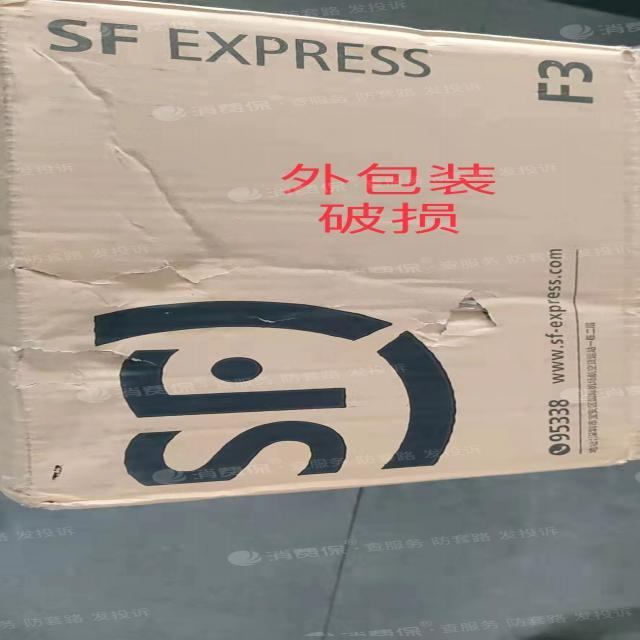hole: (419, 289, 517, 343)
